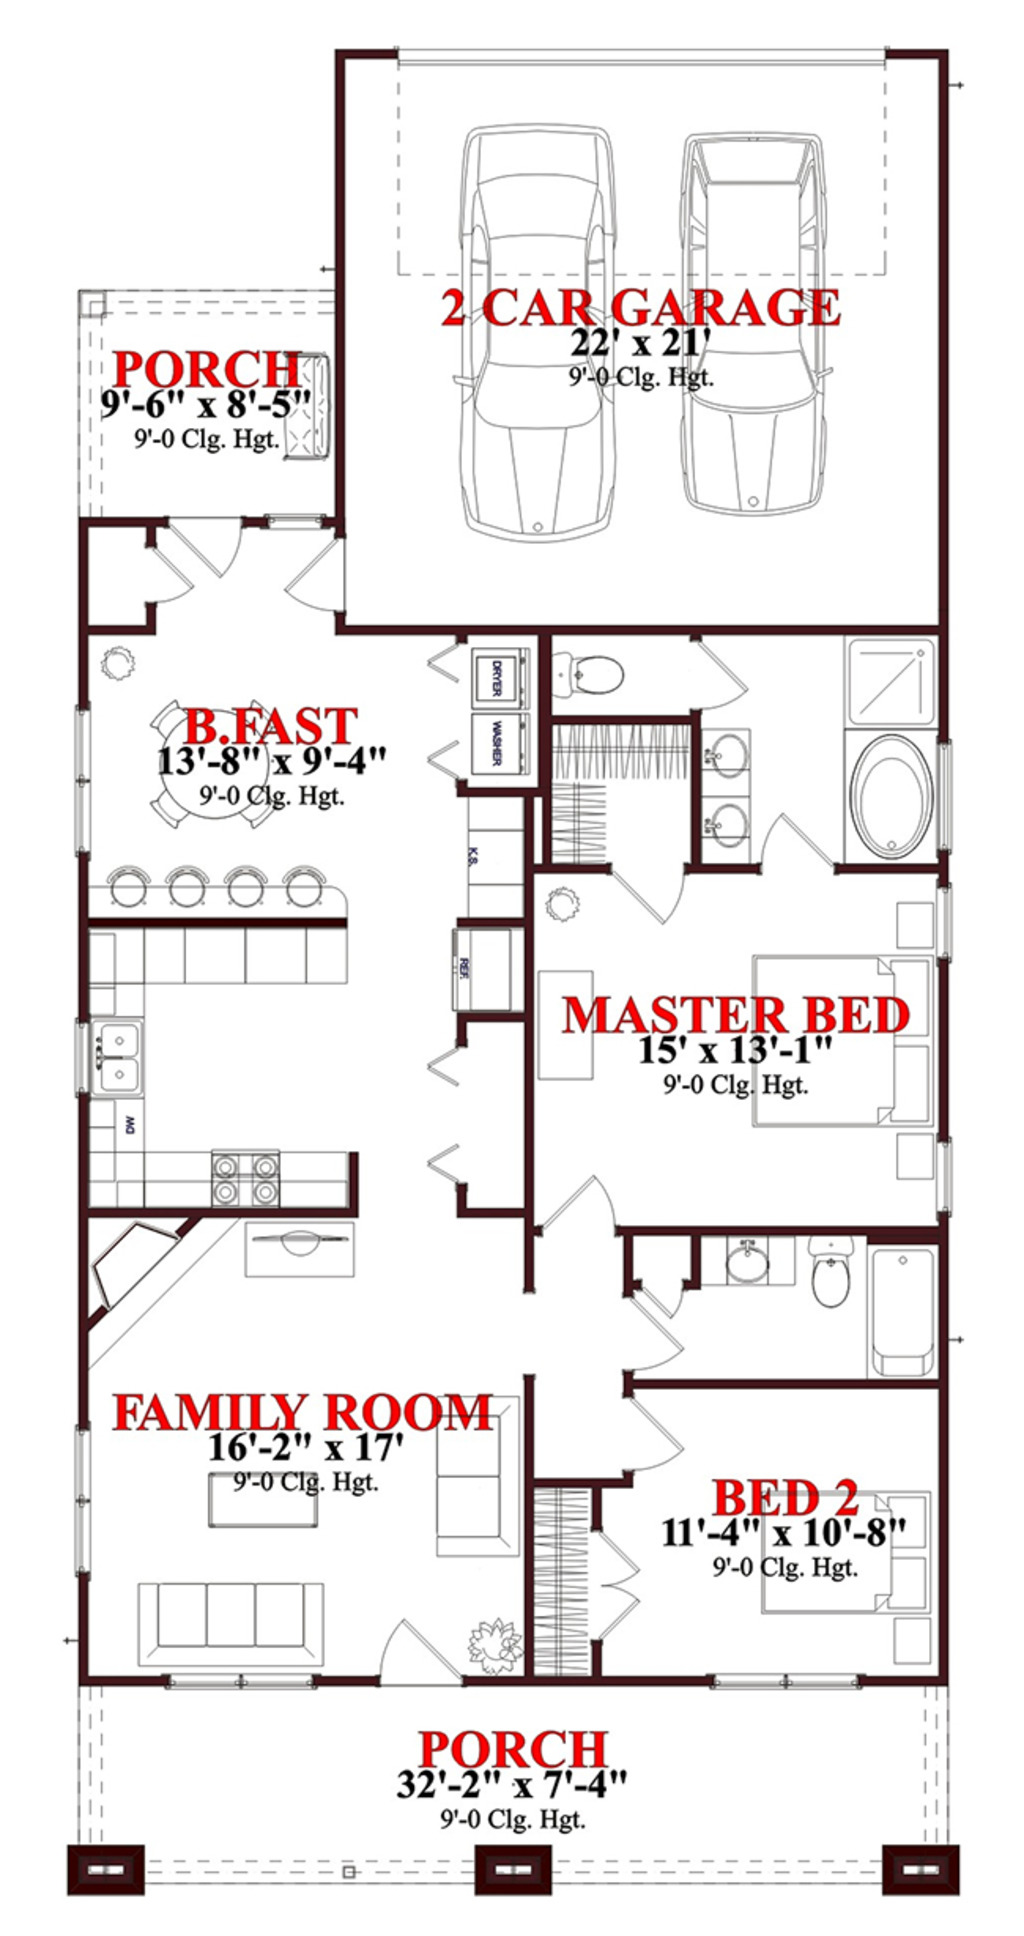bed: (745, 951, 948, 1142), (736, 1478, 931, 1624)
door: (364, 1604, 463, 1690), (582, 1517, 648, 1633), (291, 529, 375, 617), (669, 633, 754, 708), (625, 1300, 694, 1391), (748, 819, 838, 887), (612, 1384, 685, 1469), (614, 1254, 700, 1320), (536, 1163, 627, 1225), (127, 536, 204, 608), (166, 508, 244, 575), (612, 872, 700, 930)
kitchen_bar: (93, 845, 366, 987)
large_sink: (532, 624, 634, 717), (791, 1229, 854, 1318)
large_sofa: (136, 1551, 333, 1675), (419, 1387, 521, 1566)
round_table: (142, 684, 326, 845)
small_sink: (698, 723, 754, 869), (716, 1220, 797, 1300)
tub: (836, 726, 936, 866), (858, 1248, 954, 1378)
twin_sink: (51, 1003, 151, 1108)
